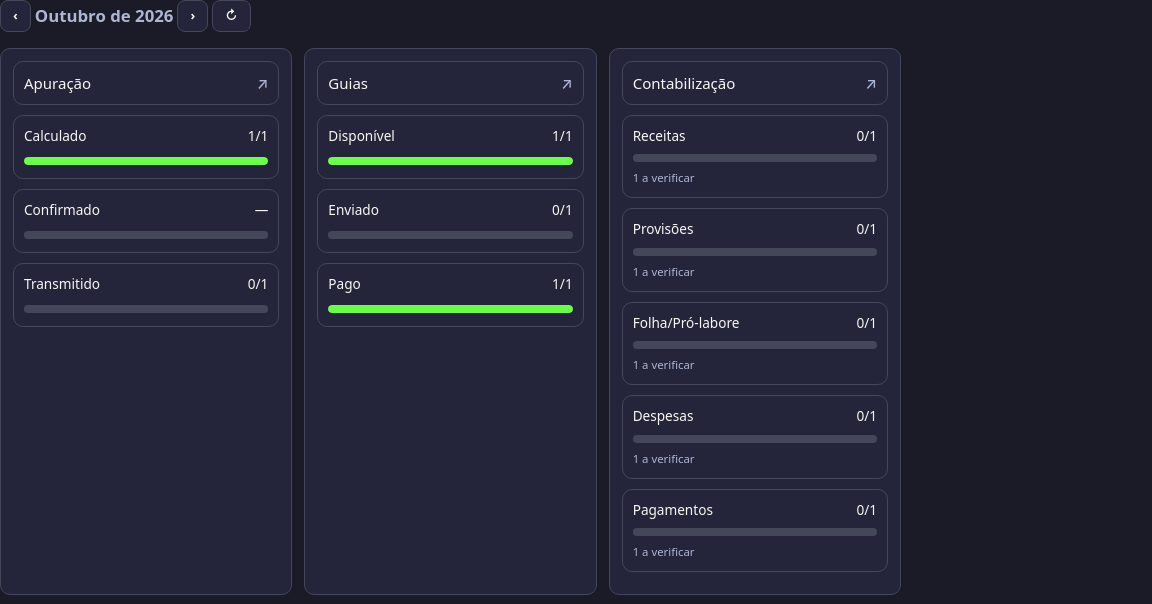
Test: paga sem envio continua pendente de envio; barras e lista usam empresas e eixos separados
The width and height of the screenshot is (1152, 604).
Check: the button with aria-label "Pago 1/1 empresas" is enabled, box [317,263,584,327]
Click the button with aria-label "Enviado 0/1 empresas": (354, 210) [317,189,584,253]
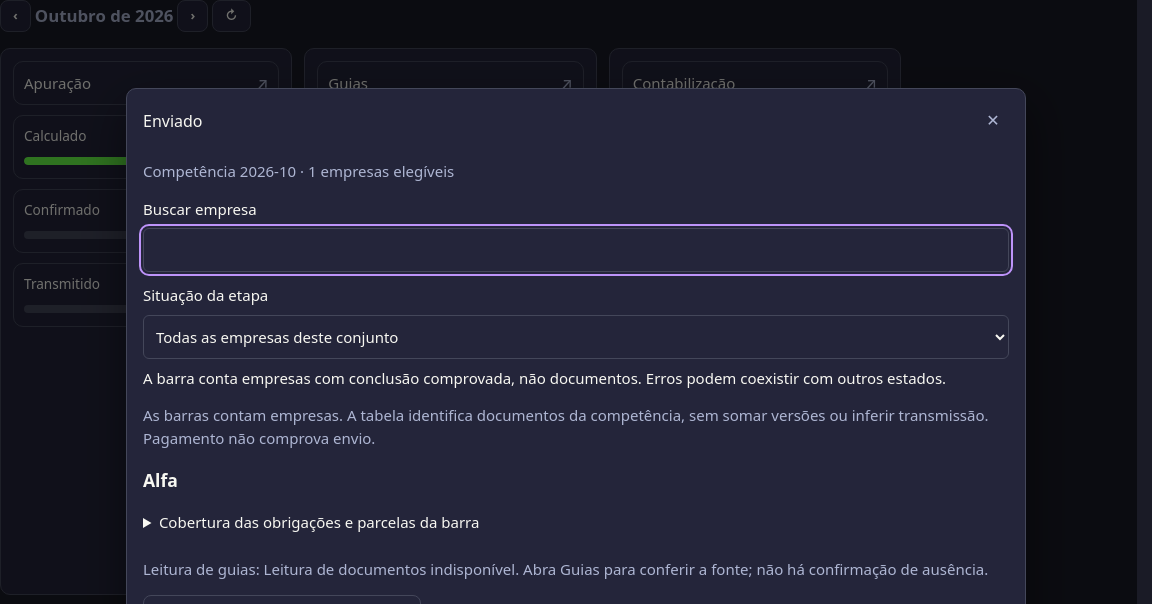
Click the heading "Cobertura das obrigações e parcelas da barra": (319, 522) [159,512,479,532]
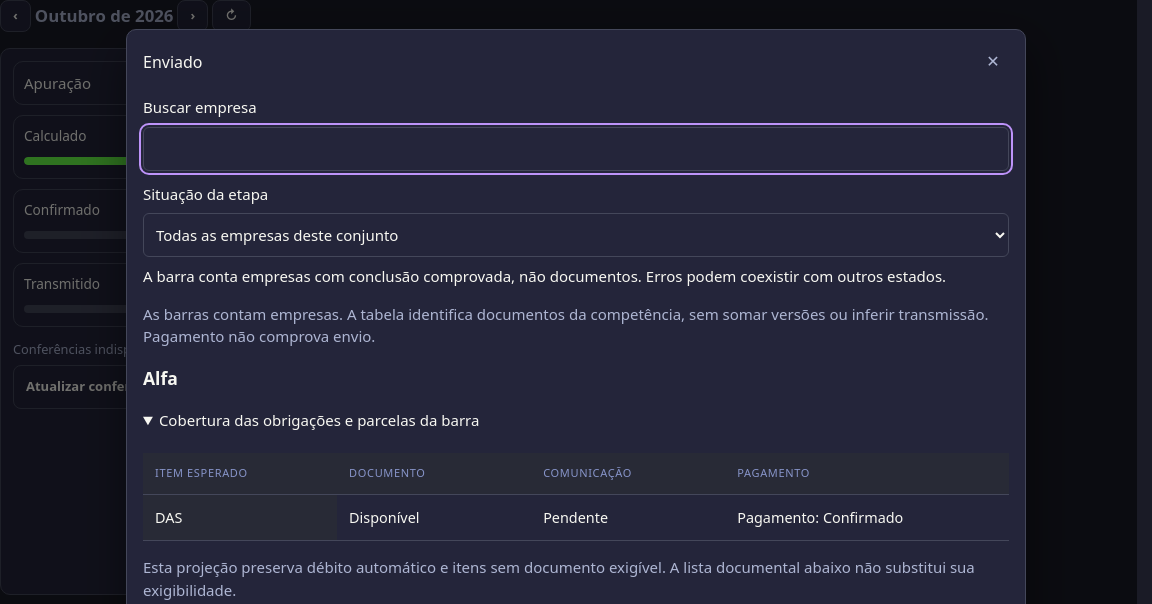
Check: the text "Disponível" is shown, box [337,494,531,541]
Check: the text "Pendente" is shown, box [531,494,725,541]
Check: the text "Pagamento: Confirmado" is shown, box [725,494,1009,541]
